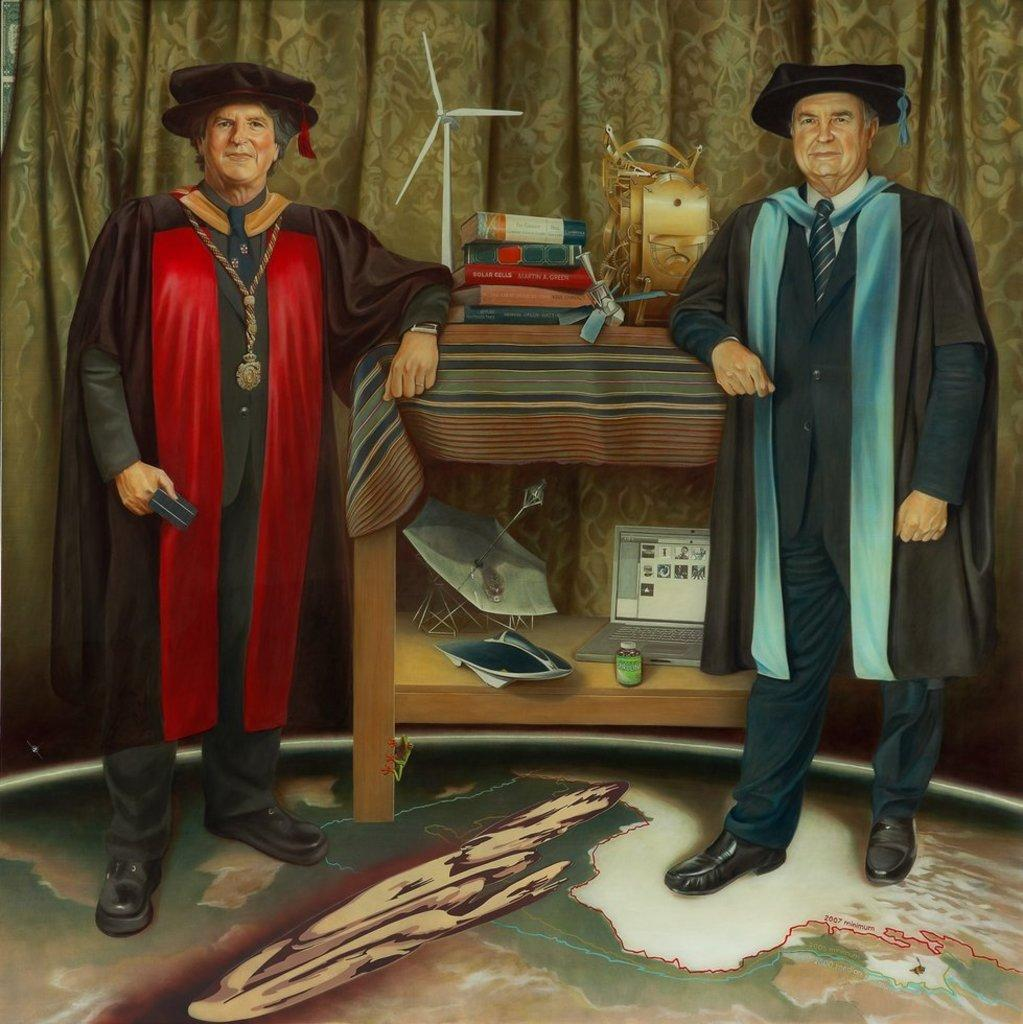Hat: (166, 60, 322, 160), (752, 60, 915, 146)
